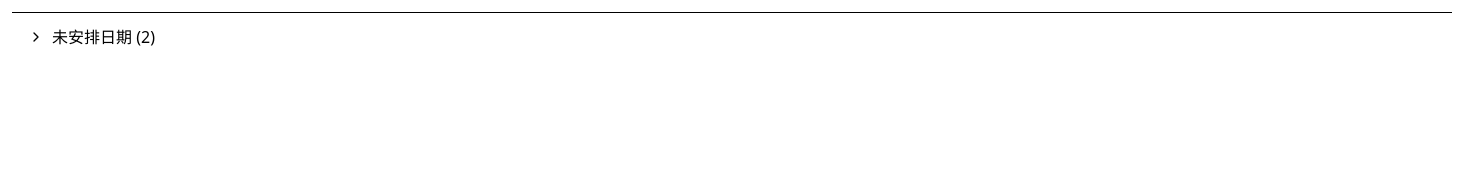
Test case: UnscheduledTaskList › interactions › should expand when header is clicked
This screenshot has width=1464, height=172.
// Click the header to expand
Click the button "未安排日期 (2)".
click(96, 37)  # box left=12, top=13, right=1452, bottom=61
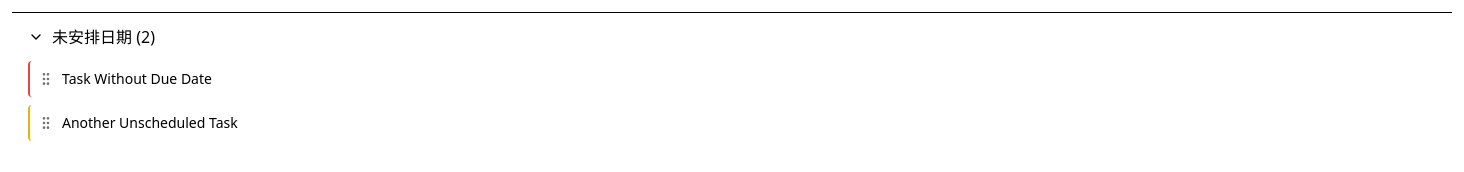
Now the text "Task Without Due Date" is shown, box left=62, top=69, right=212, bottom=88
Now the text "Another Unscheduled Task" is shown, box left=62, top=113, right=238, bottom=132
